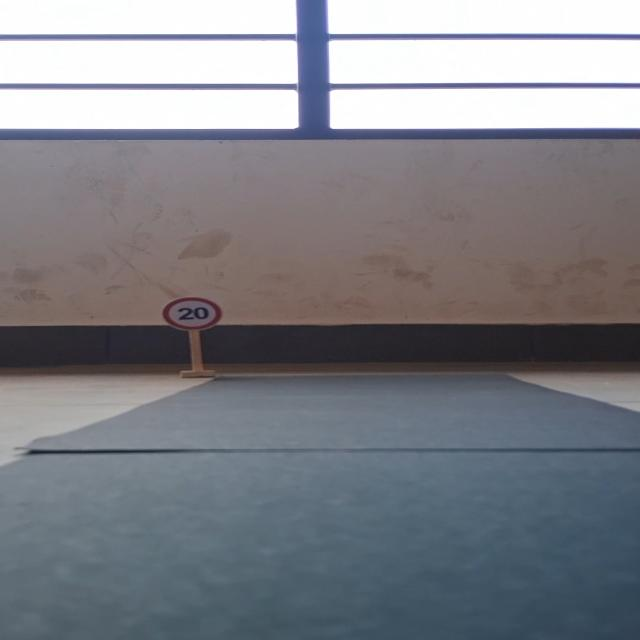Speed20: (159, 296, 226, 333)
